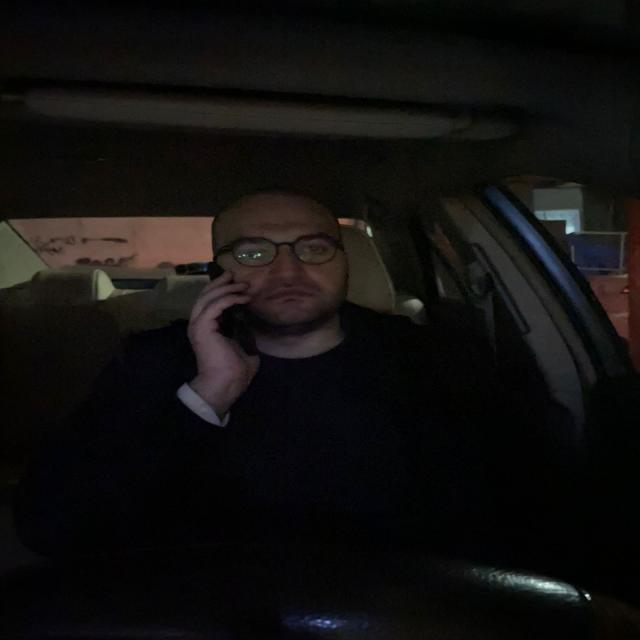mobile: (208, 263, 257, 344)
person: (204, 194, 348, 344)
